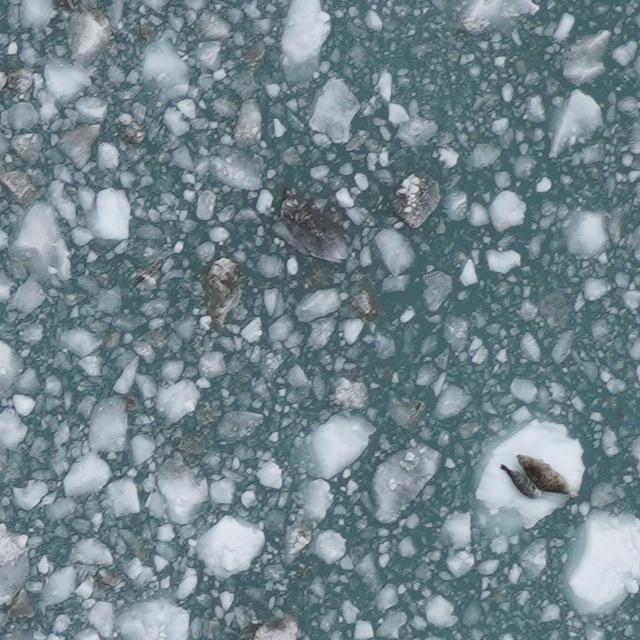seal: (514, 451, 581, 502), (496, 460, 548, 502)
